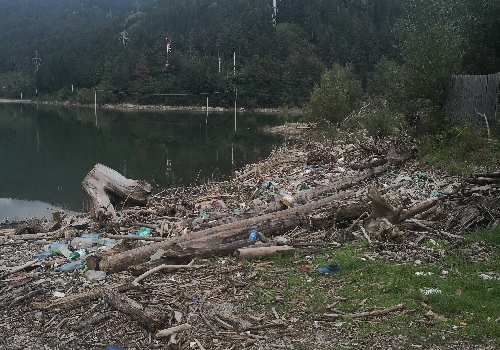trash: (59, 125, 441, 303)
